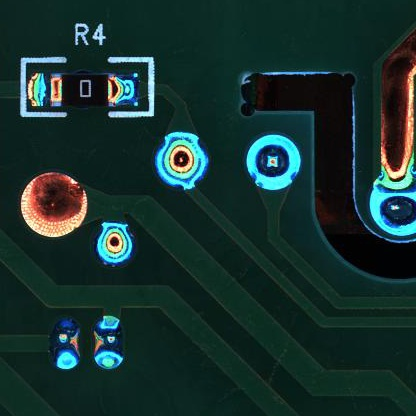spot: (152, 129, 209, 192), (242, 134, 304, 189), (369, 171, 416, 237), (93, 218, 137, 269), (90, 316, 130, 371), (45, 317, 84, 371)
